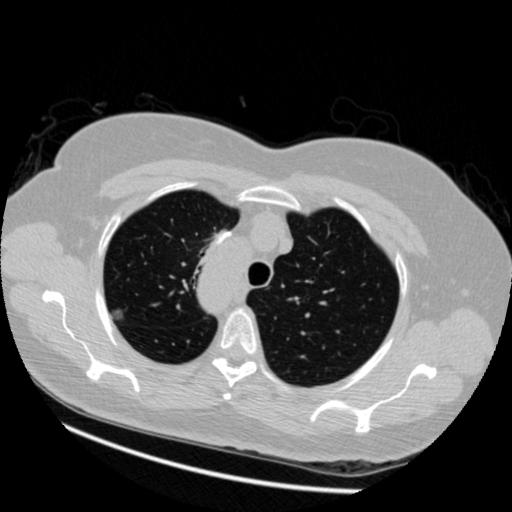nodule: (110, 304, 130, 324)
